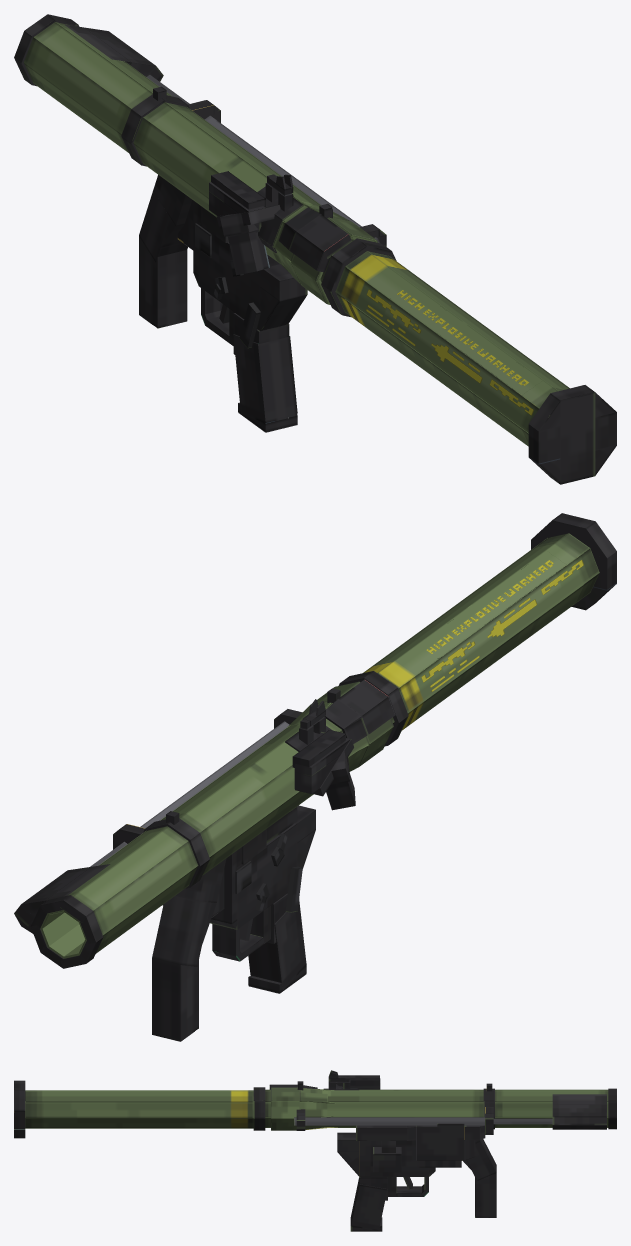
Rendered from smaw.obj.
3 views of the same model, one above another, from view 1: azimuth 30°, elevation 25°; view 2: azimuth 150°, elevation 25°; view 3: azimuth 270°, elevation 25° (orthographic). The views are drawn at different scales.
Parts seen in each view (by area): view 1: bone_4, rocket_17; view 2: bone_4, rocket_17; view 3: bone_4, rocket_17.
Part boxes in pixels (<box>): bone_4: <box>14,14,396,432</box>; rocket_17: <box>335,251,616,484</box>; bone_4: <box>14,671,408,1041</box>; rocket_17: <box>363,513,616,730</box>; bone_4: <box>253,1070,616,1231</box>; rocket_17: <box>14,1080,253,1138</box>.
Size of the model in its own units: 0.8528 by 1.84 by 6.6.
